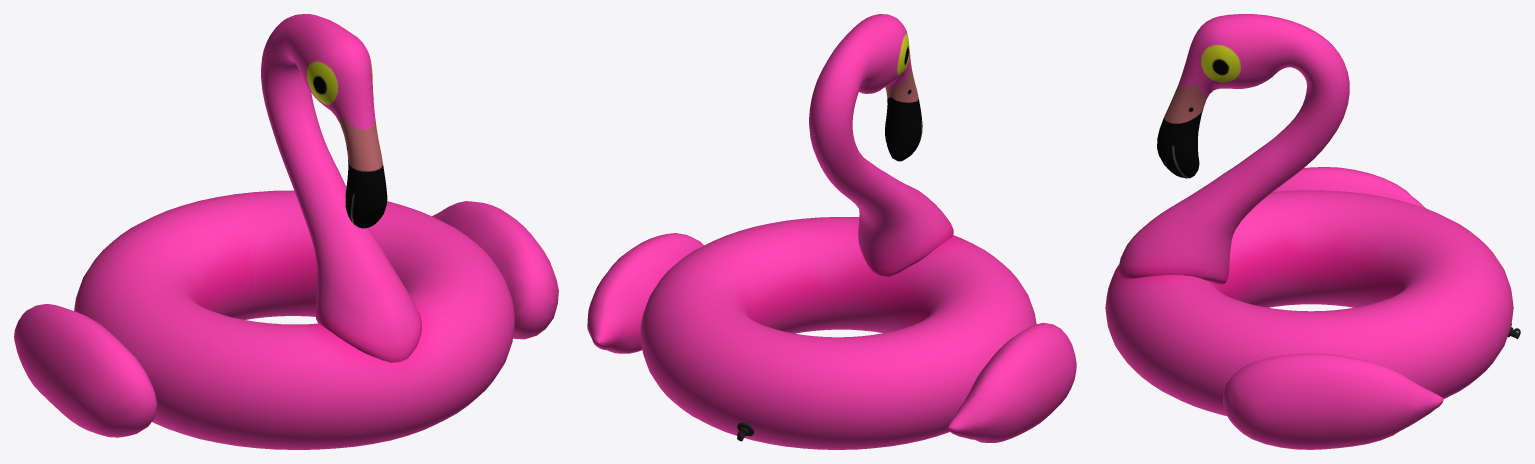
File: bumper.glb
The picture shows the model from 3 angles, left to right: view 1: azimuth 30°, elevation 25°; view 2: azimuth 150°, elevation 25°; view 3: azimuth 270°, elevation 25°; orthographic projection. The views are drawn at different scales.
Visible parts, largest first — view 1: node_id30; view 2: node_id30; view 3: node_id30.
Boxes of the visible parts, box(x1,y1,x2,y2) form: node_id30: box(14, 14, 558, 449); node_id30: box(587, 14, 1076, 449); node_id30: box(1105, 14, 1520, 449).
Size of the model in its own units: 0.512 by 0.3807 by 0.4169.
Materials: 1 (1 with a texture image).
